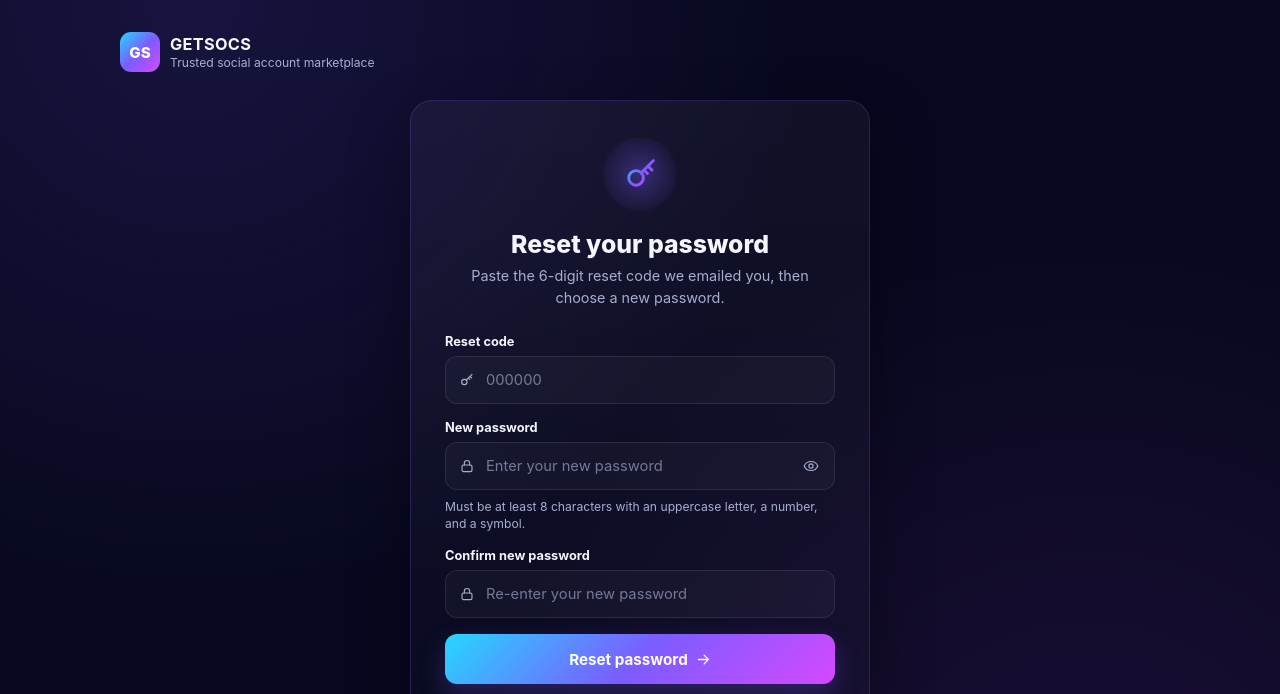
Scenario: Redesigned auth pages — render + core interactions › ResetPassword: rejects a non-6-digit code with an inline error
This screenshot has width=1280, height=694.
Type "123" into the field with placeholder "000000" at (640, 380), box [445,356,835,404]
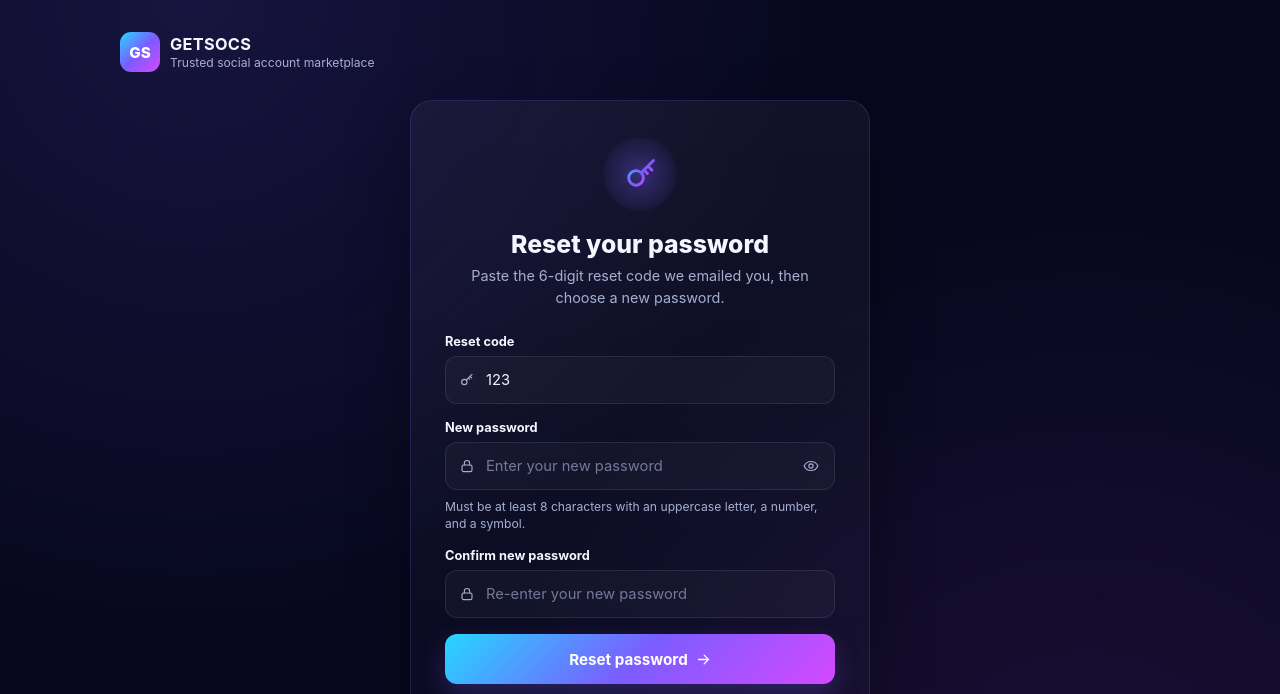
Type "Sup3r!Secret" into the password field with placeholder "Enter your new password" at (640, 466), box [445,442,835,490]
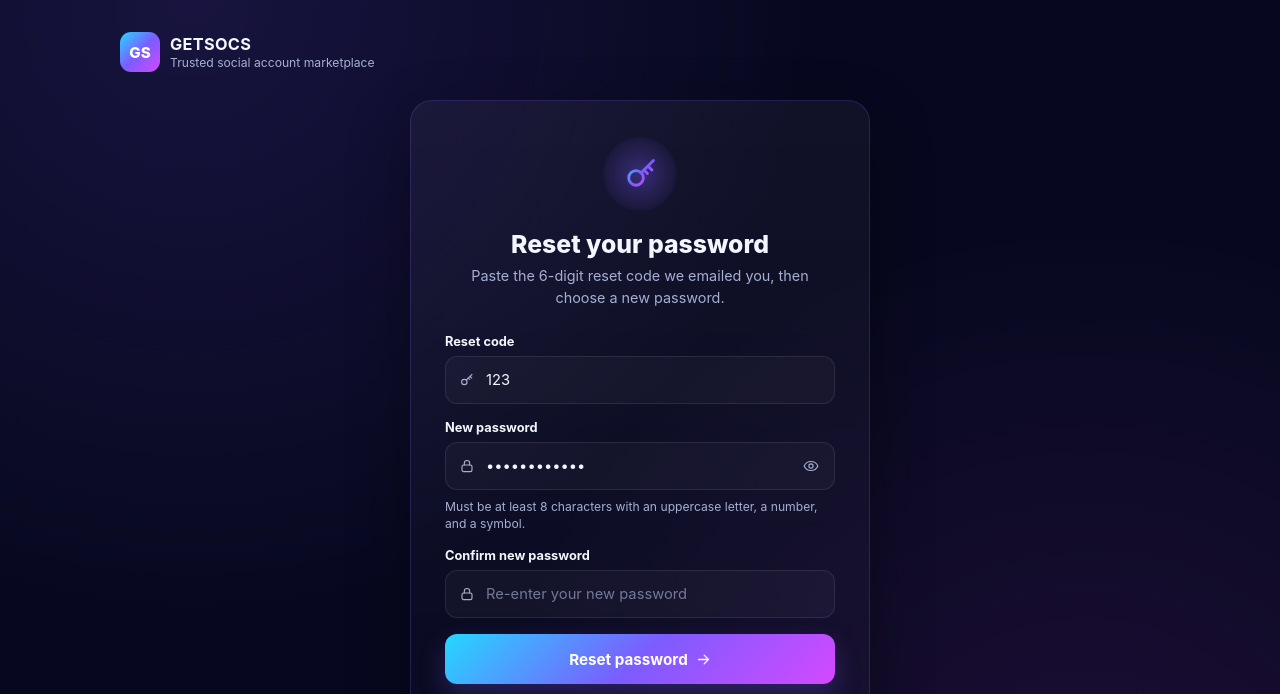
Type "Sup3r!Secret" into the password field with placeholder "Re-enter your new password" at (640, 594), box [445,570,835,618]
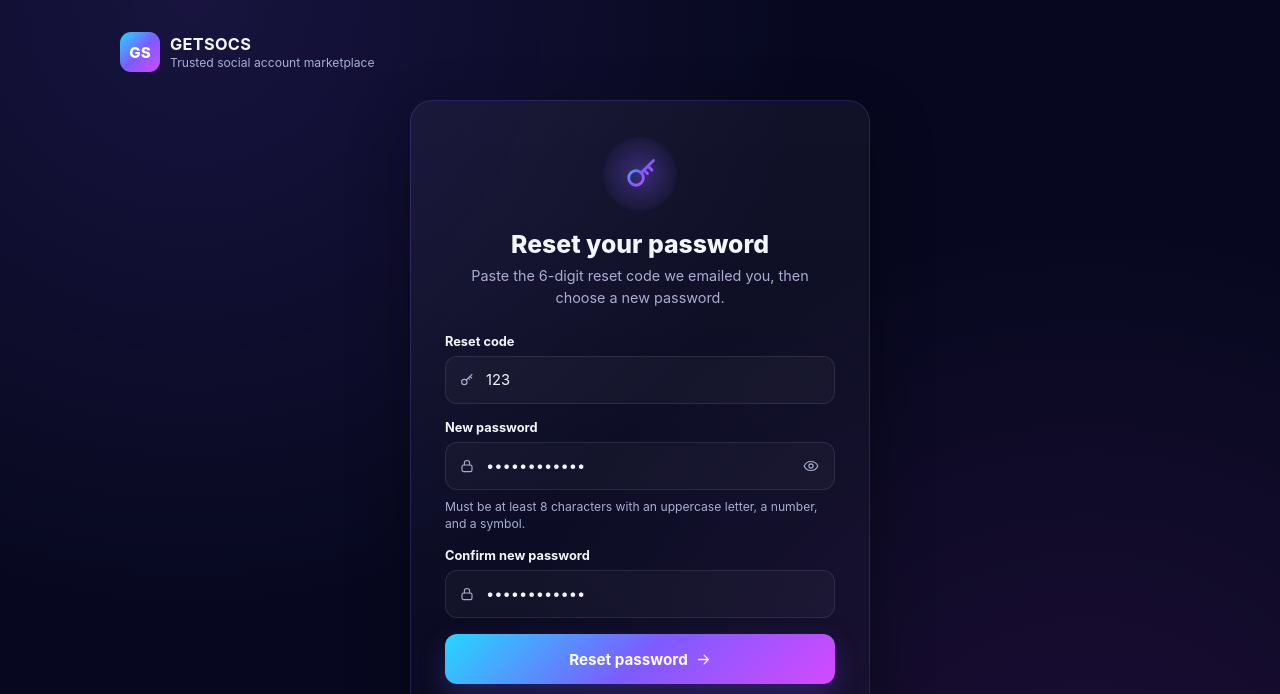
Click the button "Reset password" at (640, 659), box [445,634,835,684]
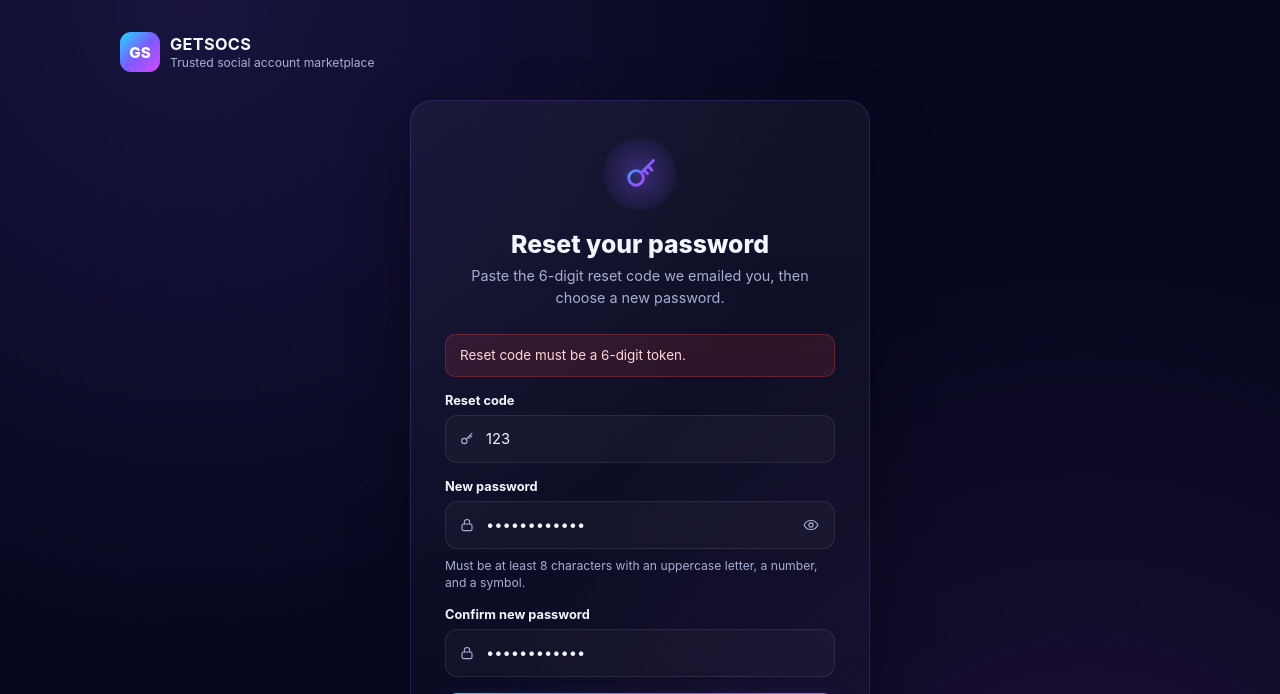
expect the text "Reset code must be a 6-digit token." is shown: met, box [445,334,835,377]
